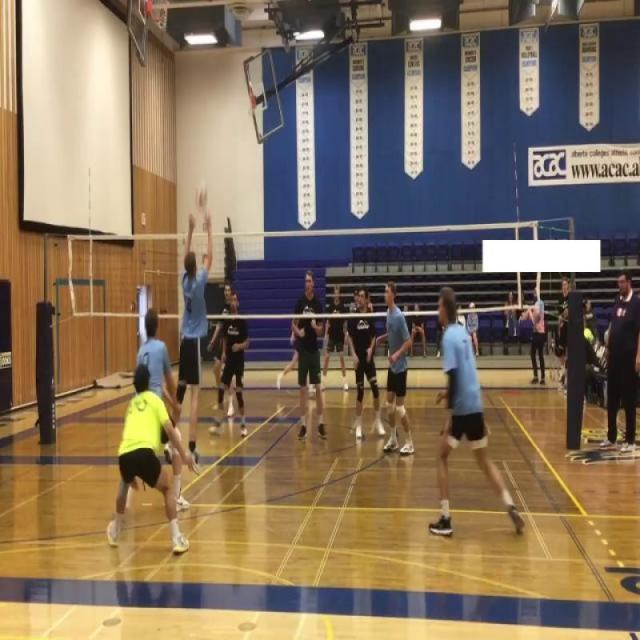volleyball: (196, 183, 208, 208)
